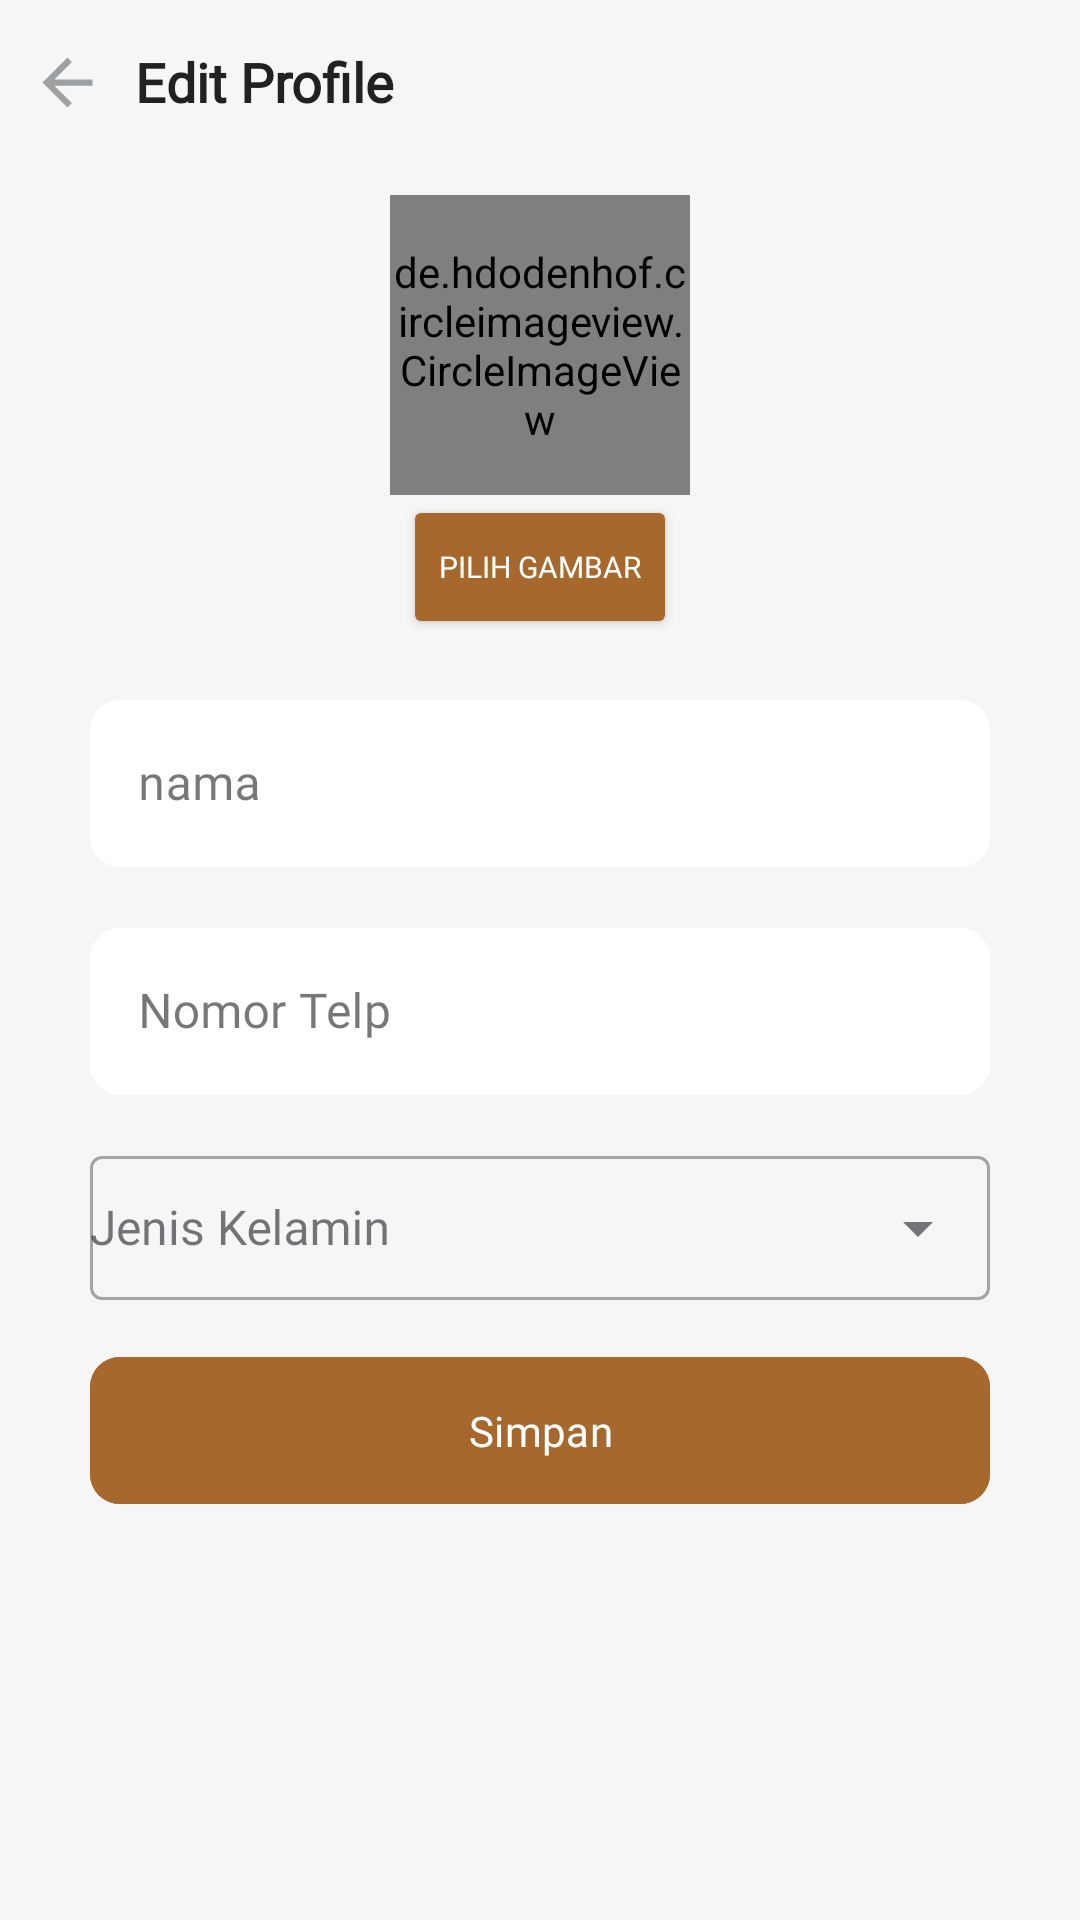

Icon click points for this 1080px x 1920px phone screenshot, format (x=x, y=y):
back: (x=68, y=82)
